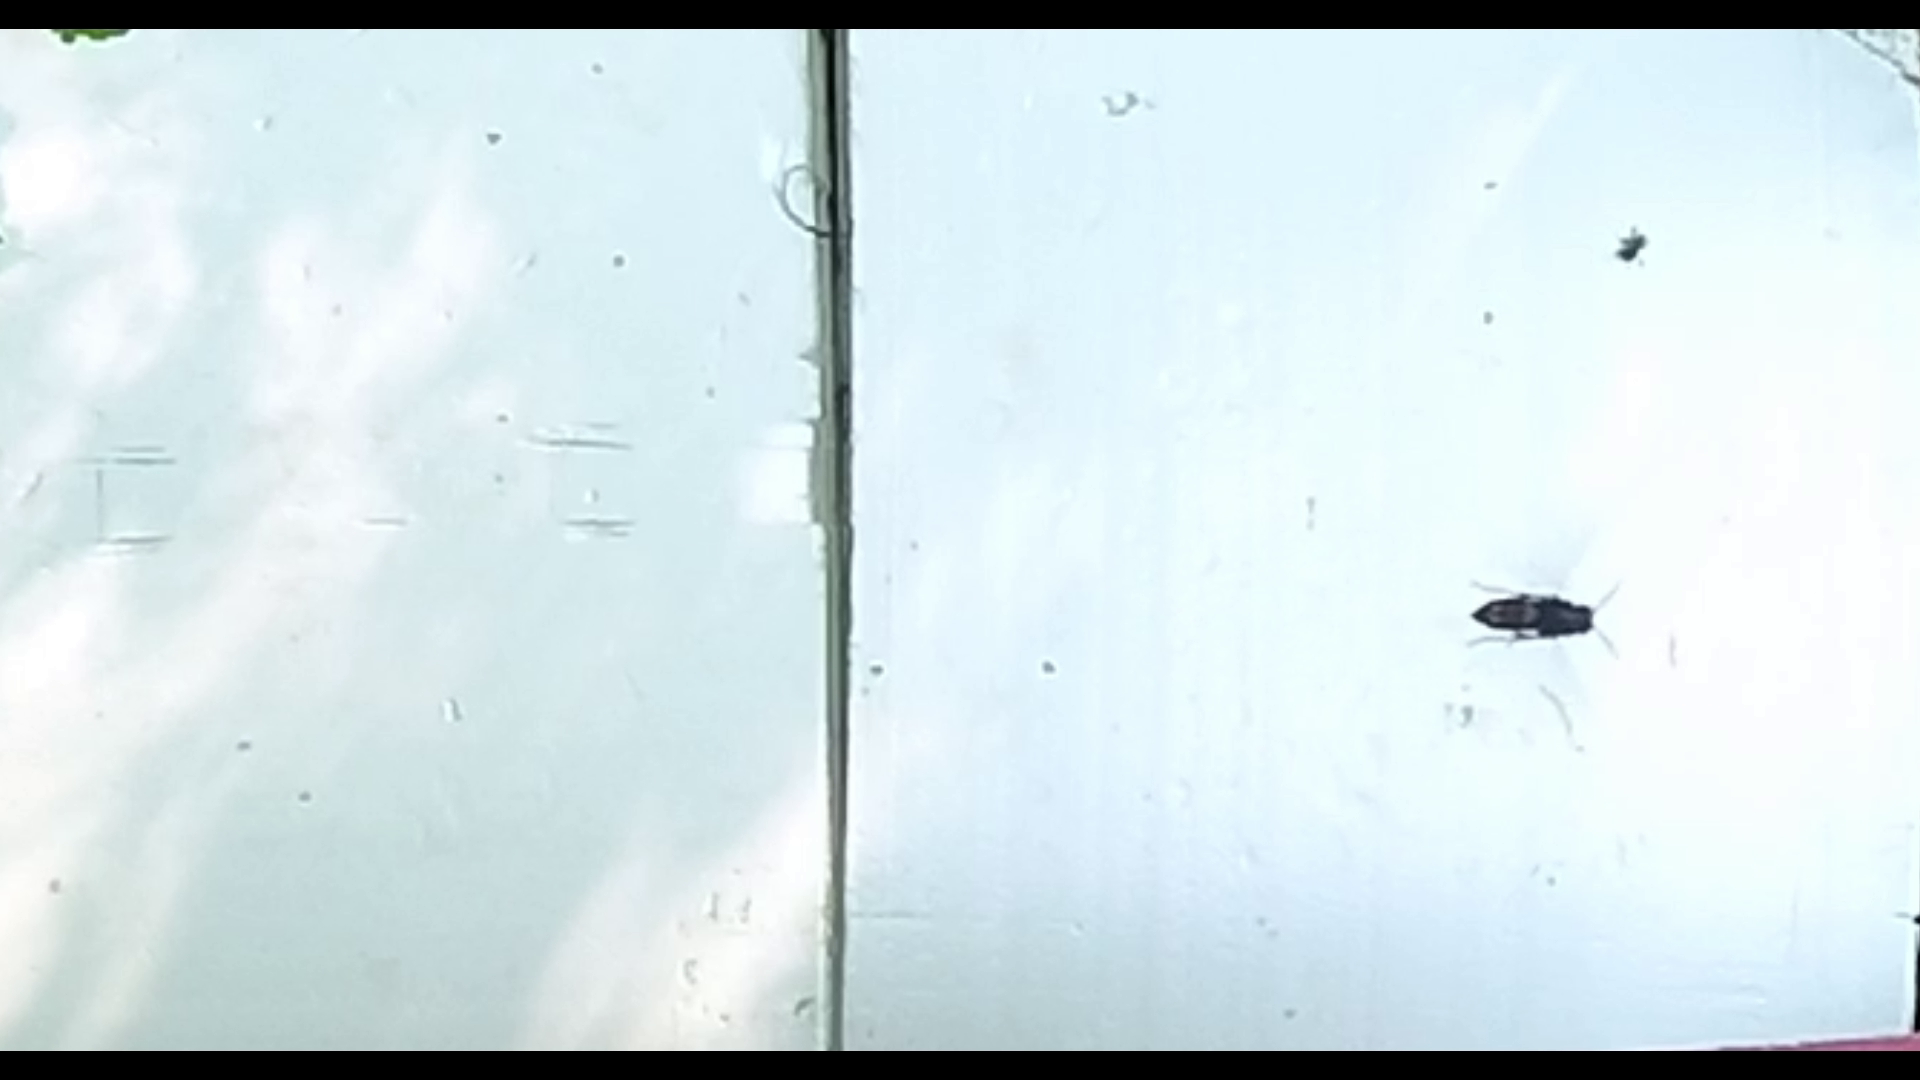Asian_hornets: (1440, 556, 1630, 673)
